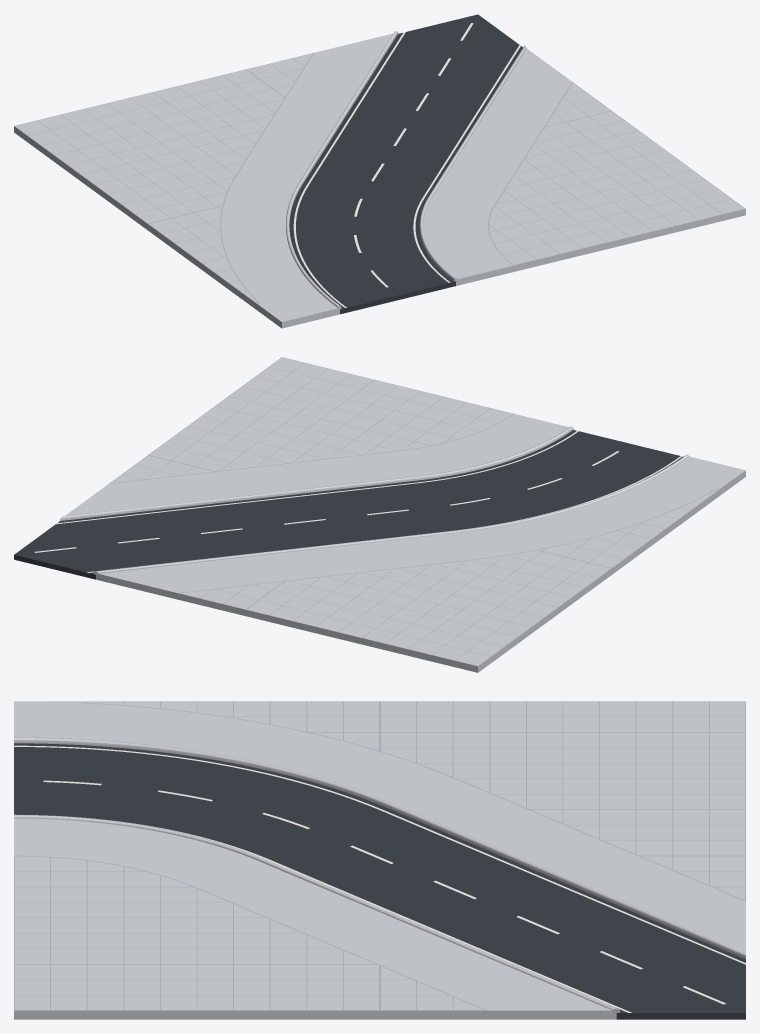
The model's file is rua_diagonal_curva_direita.glb.
3 renders of one model, top to bottom at view 1: azimuth 30°, elevation 25°; view 2: azimuth 150°, elevation 25°; view 3: azimuth 270°, elevation 25°, orthographic. The views are drawn at different scales.
Parts seen in each view (by area): view 1: rua_diagonal_curva_direita; view 2: rua_diagonal_curva_direita; view 3: rua_diagonal_curva_direita.
Boxes of the visible parts, x1,y1,x2,y2 form: rua_diagonal_curva_direita: (14, 14, 745, 328); rua_diagonal_curva_direita: (14, 357, 745, 672); rua_diagonal_curva_direita: (14, 701, 745, 1019).
Size of the model in its own units: 30 by 0.5 by 30.
Materials: 1 (1 with a texture image).
